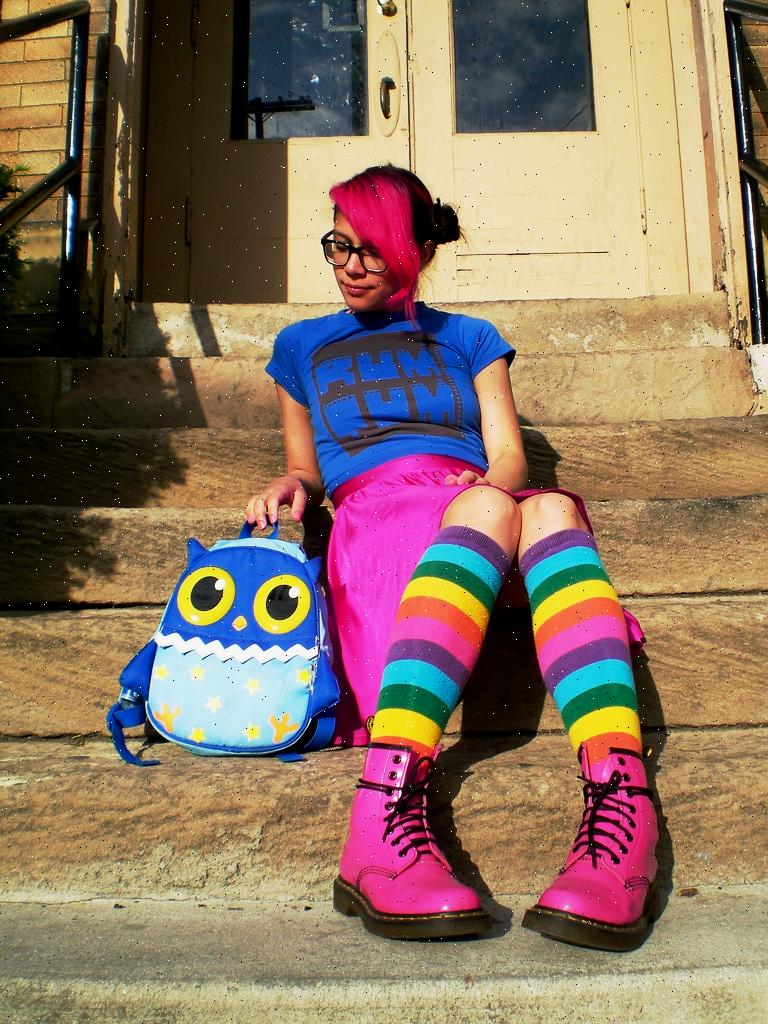Owl: (138, 536, 324, 766)
